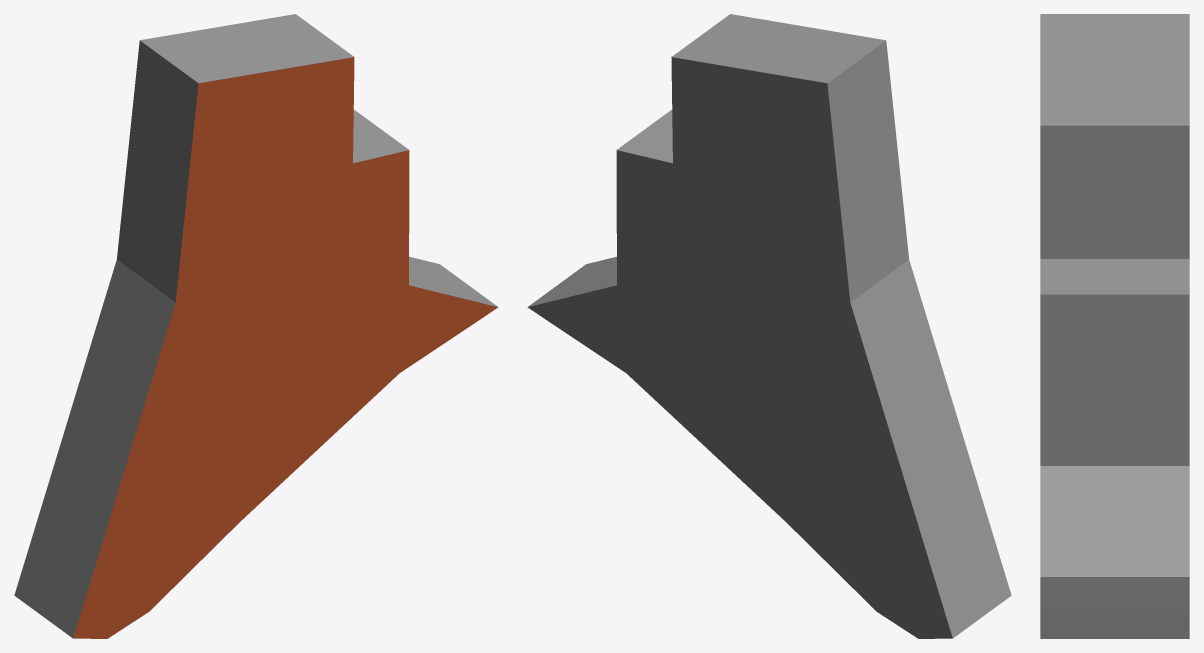
File: construction_1483_assumed_A_Casa_h6m.obj
The picture shows the model from 3 angles, left to right: view 1: azimuth 30°, elevation 25°; view 2: azimuth 150°, elevation 25°; view 3: azimuth 270°, elevation 25°; orthographic projection. The views are drawn at different scales.
Visible parts, largest first — view 1: construction_1483_assumed_A_Casa; view 2: construction_1483_assumed_A_Casa; view 3: construction_1483_assumed_A_Casa.
Boxes of the visible parts, x1,y1,x2,y2 form: construction_1483_assumed_A_Casa: (14, 14, 498, 638); construction_1483_assumed_A_Casa: (527, 14, 1011, 638); construction_1483_assumed_A_Casa: (1040, 14, 1189, 638).
Bounding box in the file's own units: 25.06 × 30.02 × 6.
